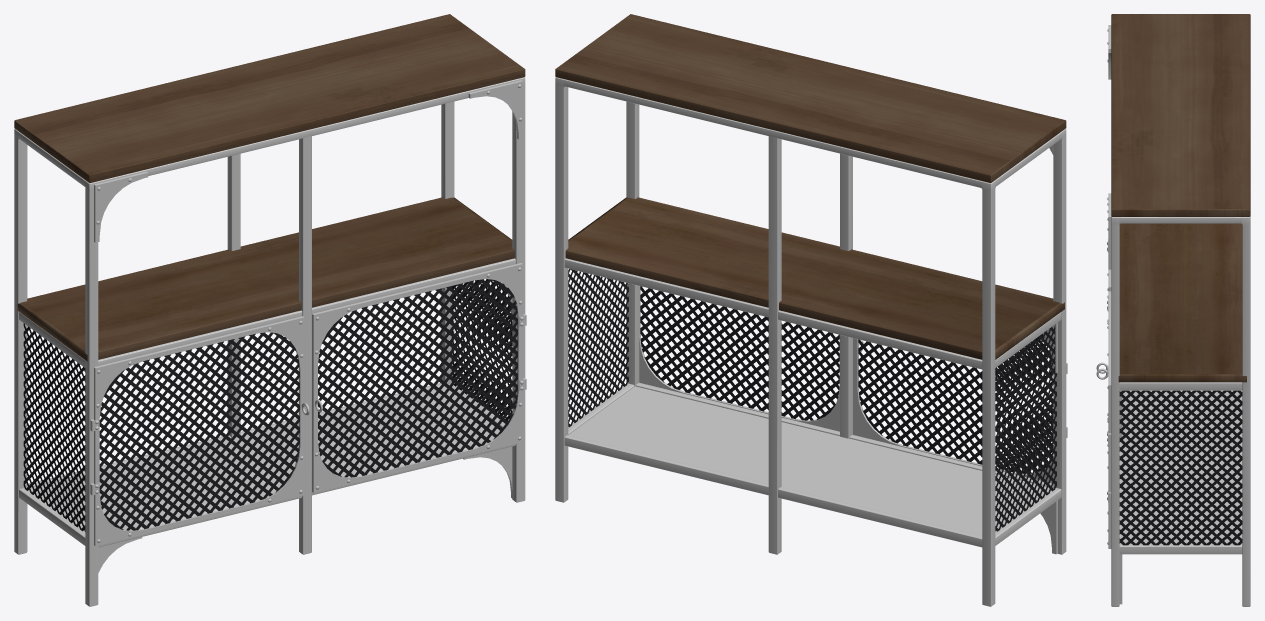
File: ikea_book_shelf_wide_short.fbx
3 views of the same model, side by side, from view 1: azimuth 30°, elevation 25°; view 2: azimuth 150°, elevation 25°; view 3: azimuth 270°, elevation 25° (orthographic). The views are drawn at different scales.
Parts seen in each view (by area): view 1: ikea_book_shelf_wide_short, ikea_book_shelf_door_left, ikea_book_shelf_door_right; view 2: ikea_book_shelf_wide_short, ikea_book_shelf_door_right, ikea_book_shelf_door_left; view 3: ikea_book_shelf_wide_short, ikea_book_shelf_door_right, ikea_book_shelf_door_left.
Part boxes in pixels (x1,y1,x2,y2): ikea_book_shelf_wide_short: (14,14,526,606); ikea_book_shelf_door_left: (94,316,309,546); ikea_book_shelf_door_right: (312,263,523,492); ikea_book_shelf_wide_short: (555,14,1067,606); ikea_book_shelf_door_right: (639,286,839,431); ikea_book_shelf_door_left: (853,334,1053,483); ikea_book_shelf_wide_short: (1107,14,1250,606); ikea_book_shelf_door_right: (1096,291,1111,548); ikea_book_shelf_door_left: (1096,197,1111,446).
Size of the model in its own units: 100 by 94.62 by 33.22.
